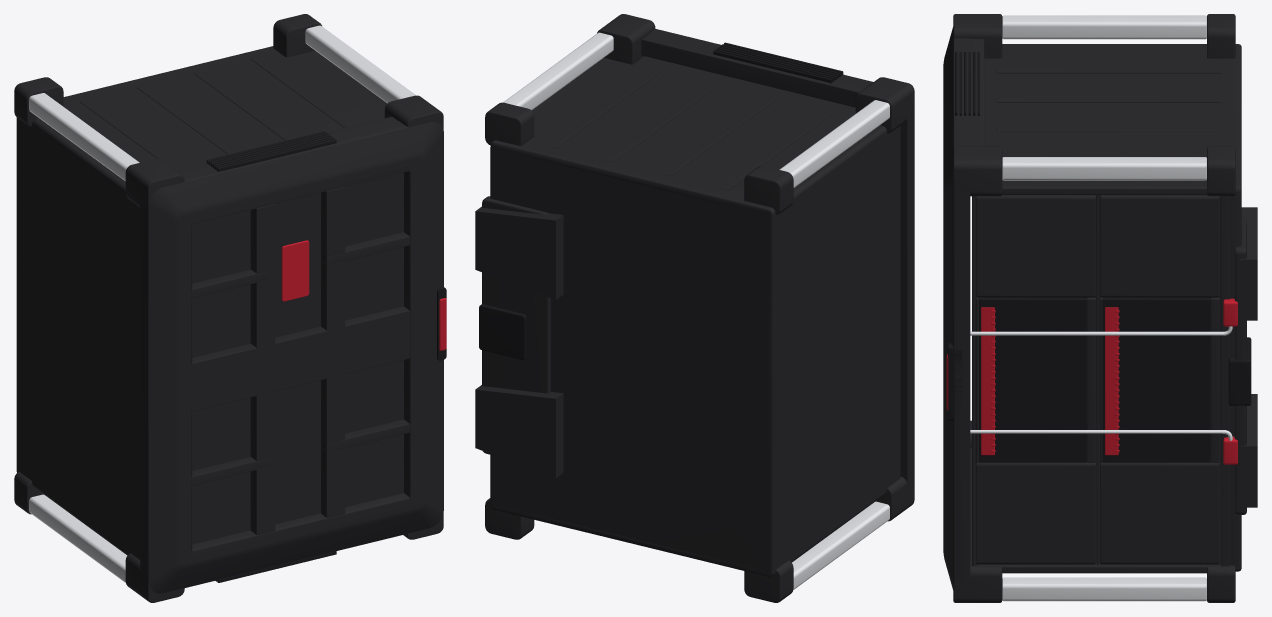
3 renders of one model, left to right at view 1: azimuth 30°, elevation 25°; view 2: azimuth 150°, elevation 25°; view 3: azimuth 270°, elevation 25°, orthographic. The views are drawn at different scales.
Visible parts, largest first — view 1: vicko_plast, telo_zada, telo_bok, vicko_zebro11, madlo_trubka (×3), vicko_ucho (×3), telo_roh_dolni (×3), telo_zebro (×4), vicko_zebro19, vicko_zebro8, vicko_zebro2, vicko_zebro13 (+12 smaller); view 2: telo_dno, telo_zada, telo_bok (×2), sokl_noha (×2), madlo_trubka (×3), telo_roh_dolni (×4), vicko_plast, sokl_deska, vicko_suknice, vicko_ucho (×3), telo_zebro (×4), sokl_stred (+2 smaller); view 3: zasuvka_prolis (×2), telo_bok (×2), zasuvka_celo_L (×2), zasuvka_celo_P (×2), madlo_trubka (×3), vicko_plast, vicko_ucho (×3), celo_sloupek (×2), telo_roh_dolni (×3), zasuvka_drzadlo (×2), celo_dolni, sokl_noha (×2) (+12 smaller).
Boxes of the visible parts, <box> form: vicko_plast: <box>140,121,443,593</box>; telo_zada: <box>16,117,140,559</box>; telo_bok: <box>32,46,385,192</box>; vicko_zebro11: <box>191,306,410,411</box>; madlo_trubka (×3): <box>29,25,415,582</box>; vicko_ucho (×3): <box>125,95,443,602</box>; telo_roh_dolni (×3): <box>14,14,321,514</box>; telo_zebro (×4): <box>79,57,351,169</box>; vicko_zebro19: <box>250,204,275,273</box>; vicko_zebro8: <box>250,391,275,460</box>; vicko_zebro2: <box>250,465,275,534</box>; vicko_zebro13: <box>250,278,275,347</box>; telo_dno: <box>490,141,777,576</box>; telo_zada: <box>765,127,899,576</box>; telo_bok (×2): <box>490,56,886,576</box>; sokl_noha (×2): <box>475,206,563,477</box>; madlo_trubka (×3): <box>503,32,889,589</box>; telo_roh_dolni (×4): <box>485,102,793,602</box>; vicko_plast: <box>648,29,914,489</box>; sokl_deska: <box>482,196,550,456</box>; vicko_suknice: <box>641,34,866,107</box>; vicko_ucho (×3): <box>597,14,914,521</box>; telo_zebro (×4): <box>550,67,835,190</box>; sokl_stred: <box>479,304,526,359</box>; zasuvka_prolis (×2): <box>979,298,1210,462</box>; telo_bok (×2): <box>979,44,1241,571</box>; zasuvka_celo_L (×2): <box>976,462,1219,564</box>; zasuvka_celo_P (×2): <box>976,195,1219,297</box>; madlo_trubka (×3): <box>1002,15,1206,601</box>; vicko_plast: <box>943,27,970,589</box>; vicko_ucho (×3): <box>953,14,1002,602</box>; celo_sloupek (×2): <box>979,184,1219,573</box>; telo_roh_dolni (×3): <box>1207,14,1235,602</box>; zasuvka_drzadlo (×2): <box>981,307,1118,455</box>; celo_dolni: <box>1220,196,1230,566</box>; sokl_noha (×2): <box>1240,207,1257,507</box>.
Bounding box in the file's own units: 414 × 564 × 363.
